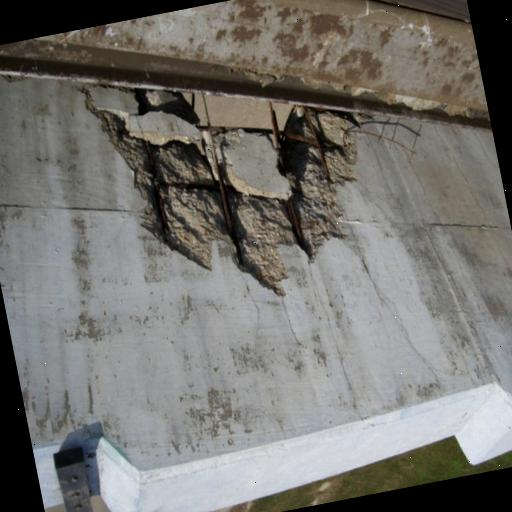spalling: (86, 82, 356, 283)
